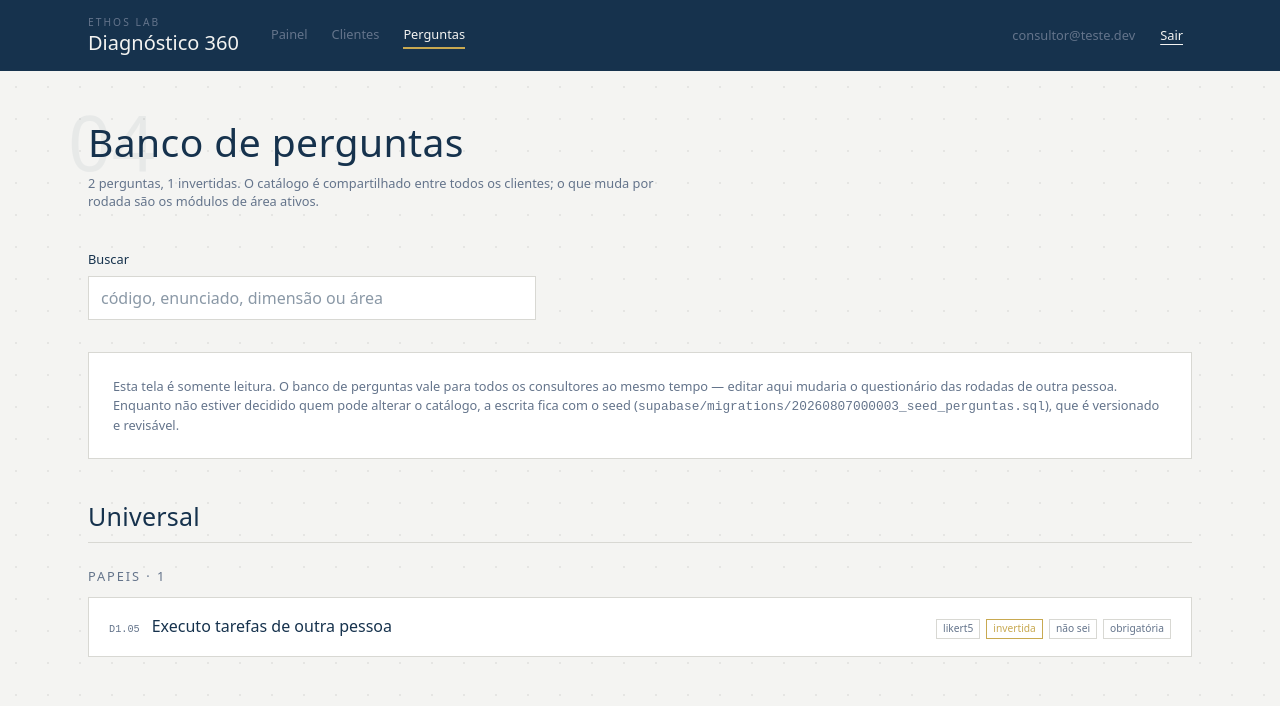
Scenario: PerguntasPage › filtra por código
This screenshot has width=1280, height=706.
Type "FIN" into the field labelled "Buscar" at (312, 298), box [88,276,536,320]
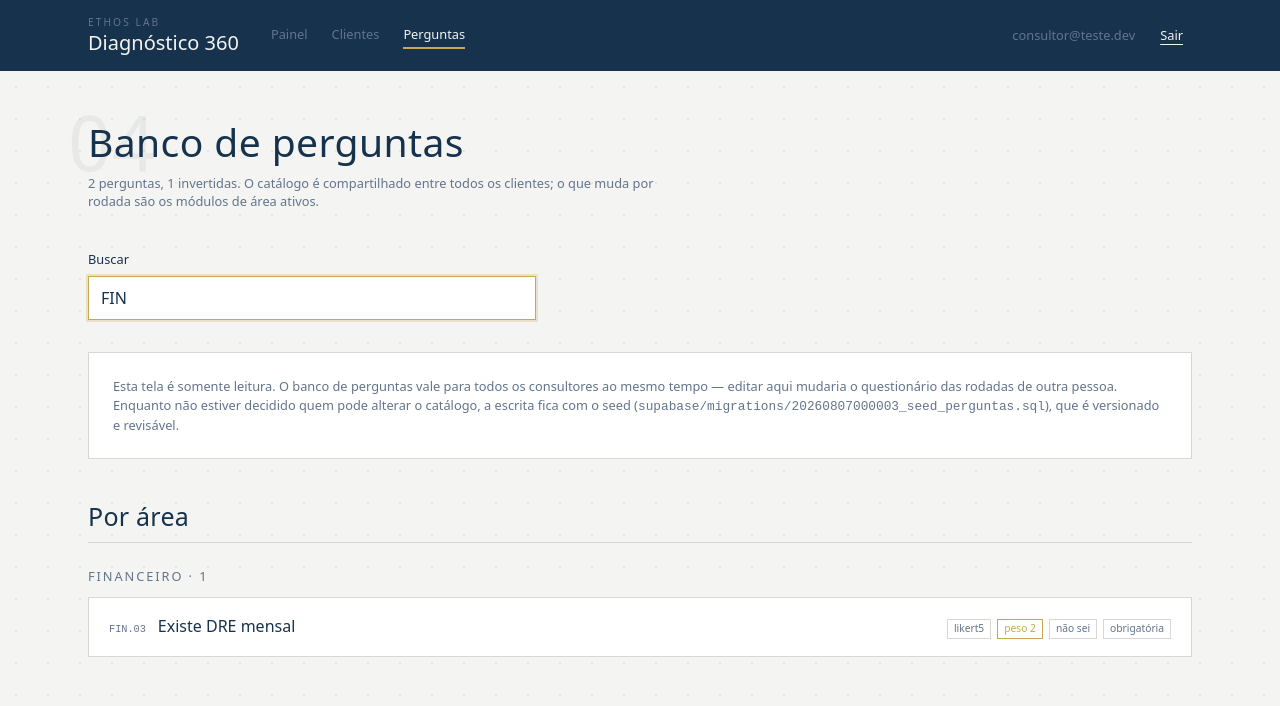
Expected: the text "Existe DRE mensal" is shown, [158,616,295,638]
Expected: the text "Executo tarefas de outra pessoa" is gone
